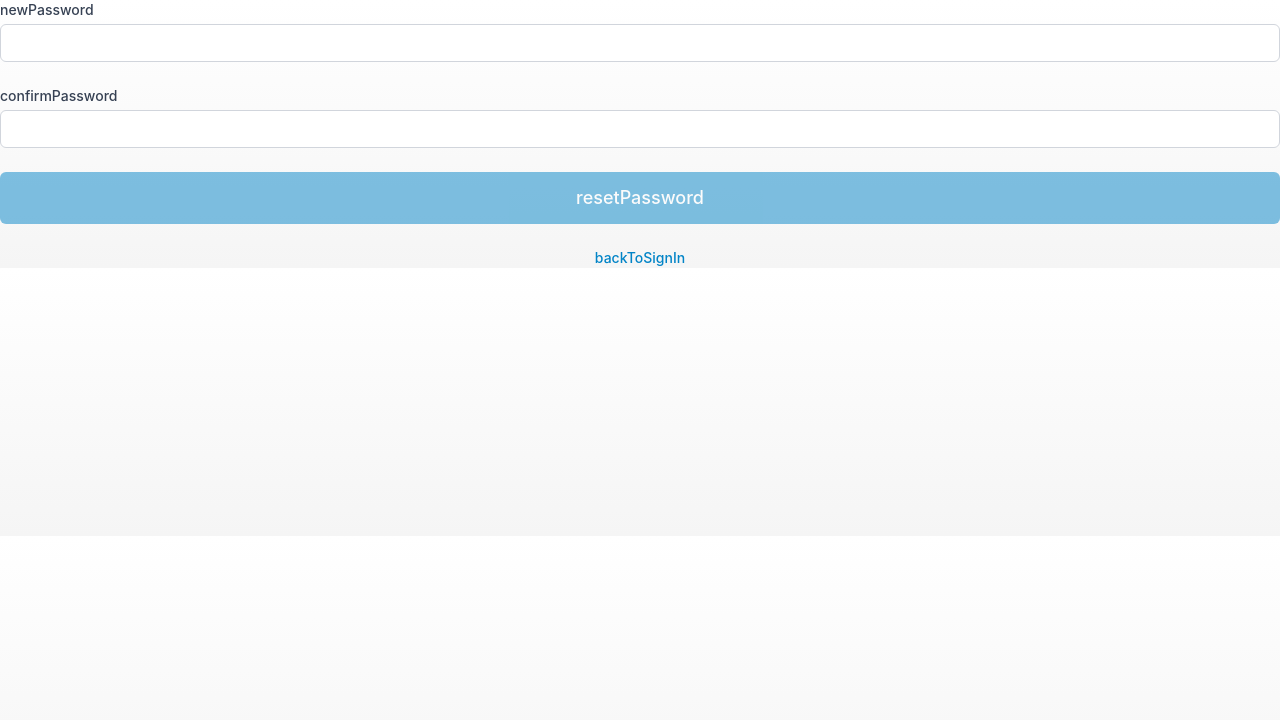
Test: ResetPasswordForm › validates passwords match
This screenshot has width=1280, height=720.
In the password field labelled "newPassword": {"x": 640, "y": 43} x1=0 y1=24 x2=1279 y2=62, type "Password1"
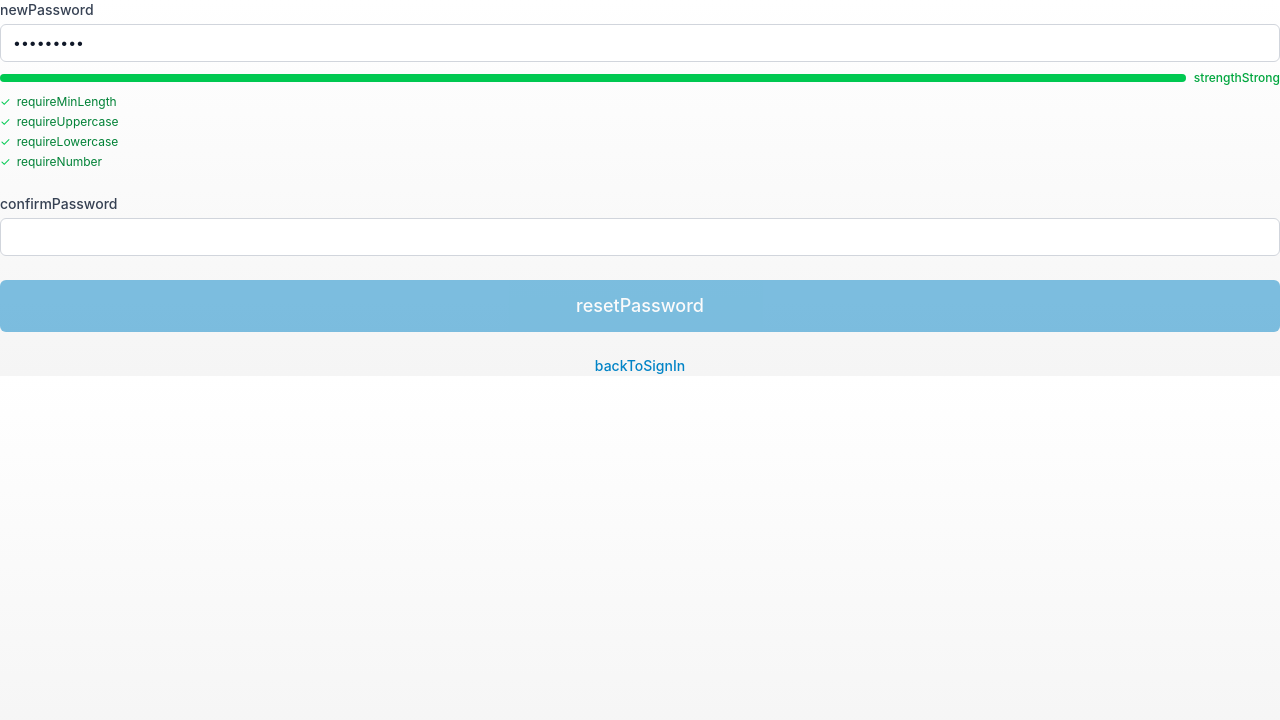
In the password field labelled "confirmPassword": {"x": 640, "y": 237} x1=0 y1=218 x2=1279 y2=256, type "Different1"
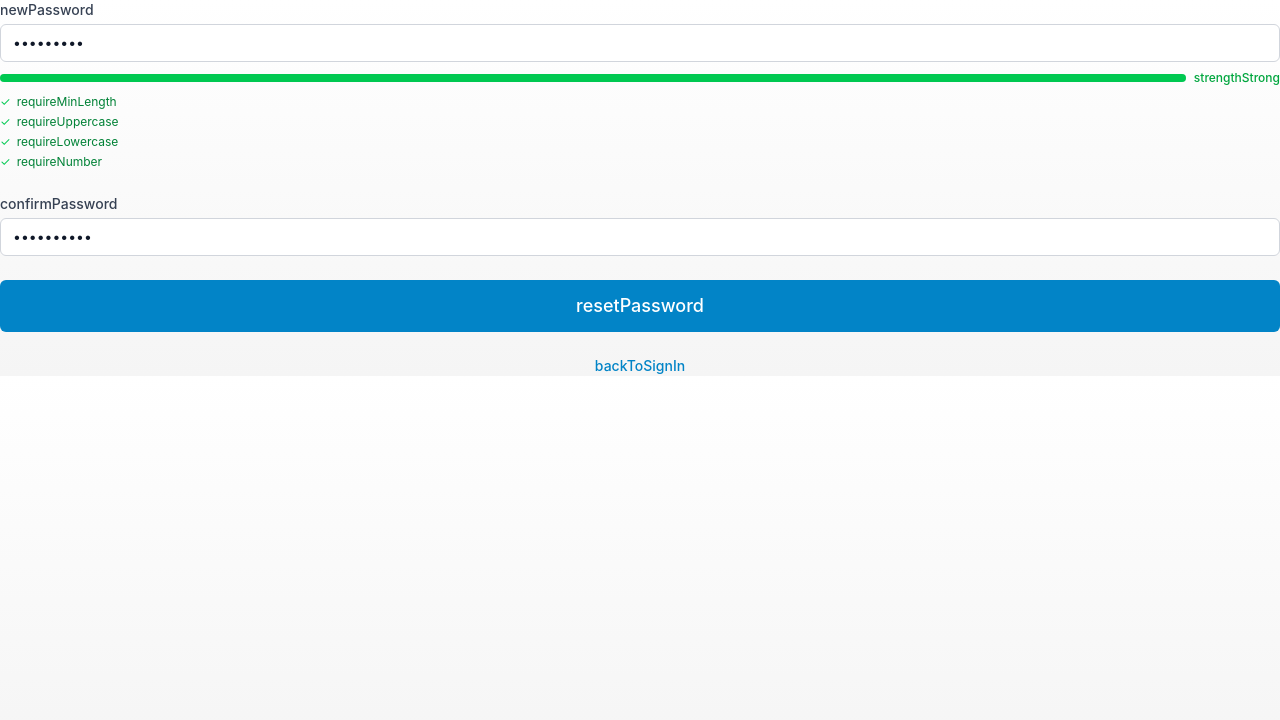
Click the button "resetPassword": {"x": 640, "y": 306} x1=0 y1=280 x2=1279 y2=332
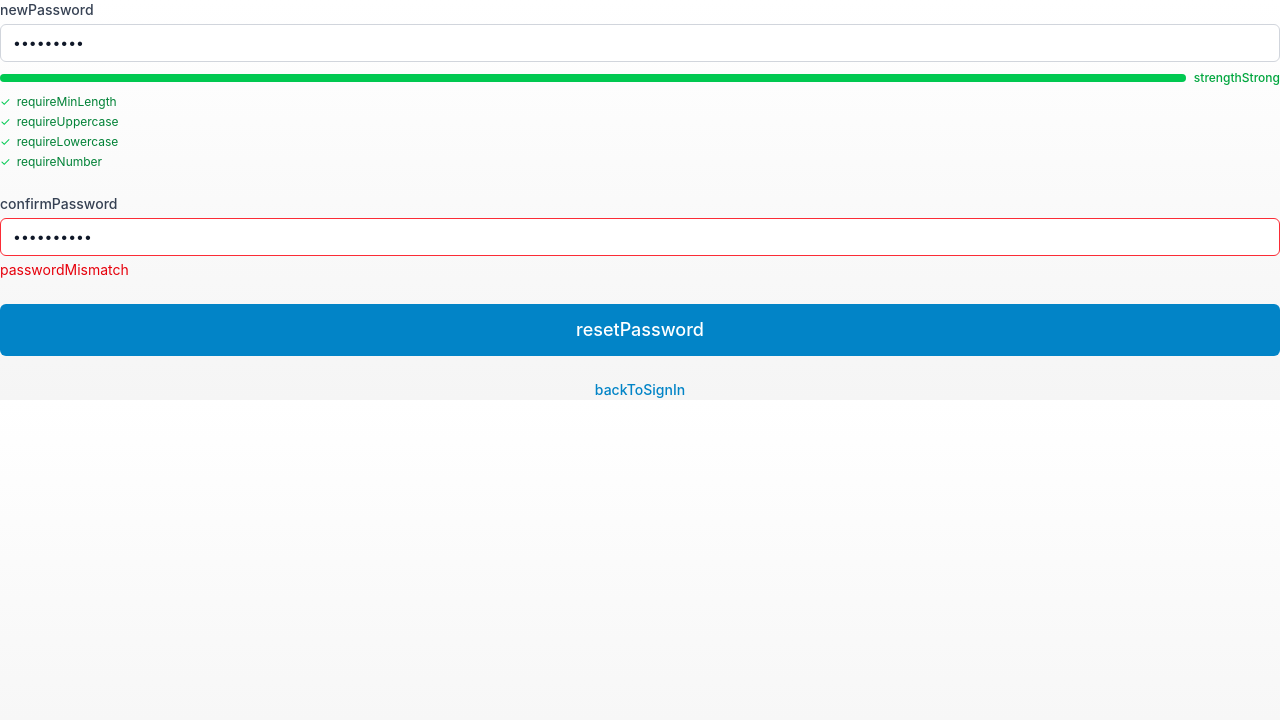
Result: the text "passwordMismatch" is shown at x1=0 y1=261 x2=129 y2=278
